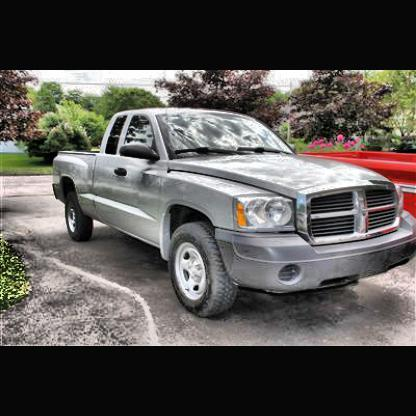Dodge Dakota Club Cab 2007: (50, 106, 416, 323)
